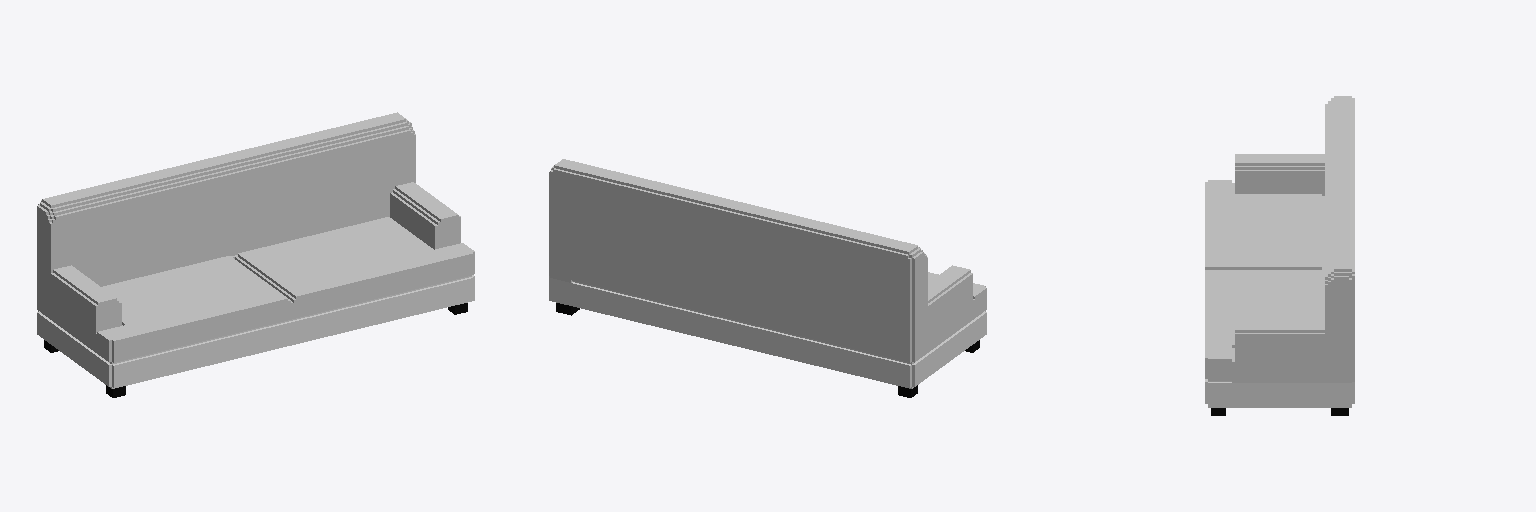
3 renders of one model, left to right at view 1: azimuth 30°, elevation 25°; view 2: azimuth 150°, elevation 25°; view 3: azimuth 270°, elevation 25°, orthographic.
Visible parts, largest first — view 1: object 1; view 2: object 1; view 3: object 1.
Boxes of the visible parts, <box> form: object 1: <box>37,112,474,397</box>; object 1: <box>549,159,986,397</box>; object 1: <box>1205,96,1354,415</box>.
Size of the model in its own units: 14 by 5.4 by 5.
1 materials, 1 textured.